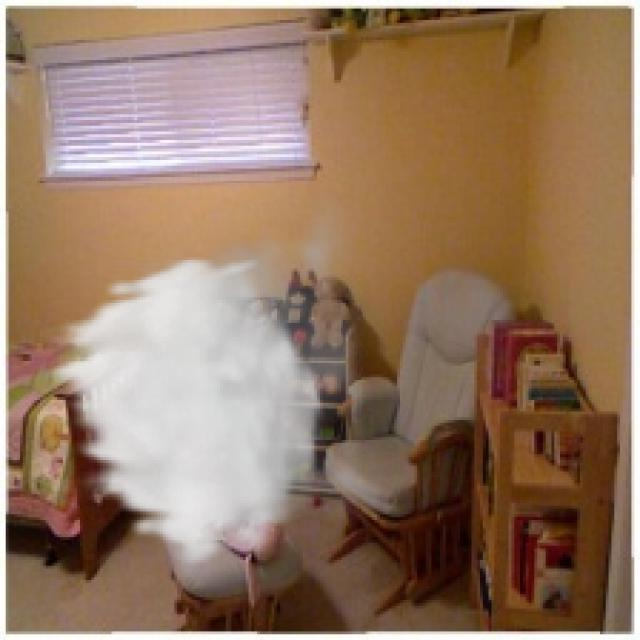Smoke: (39, 188, 392, 568)
